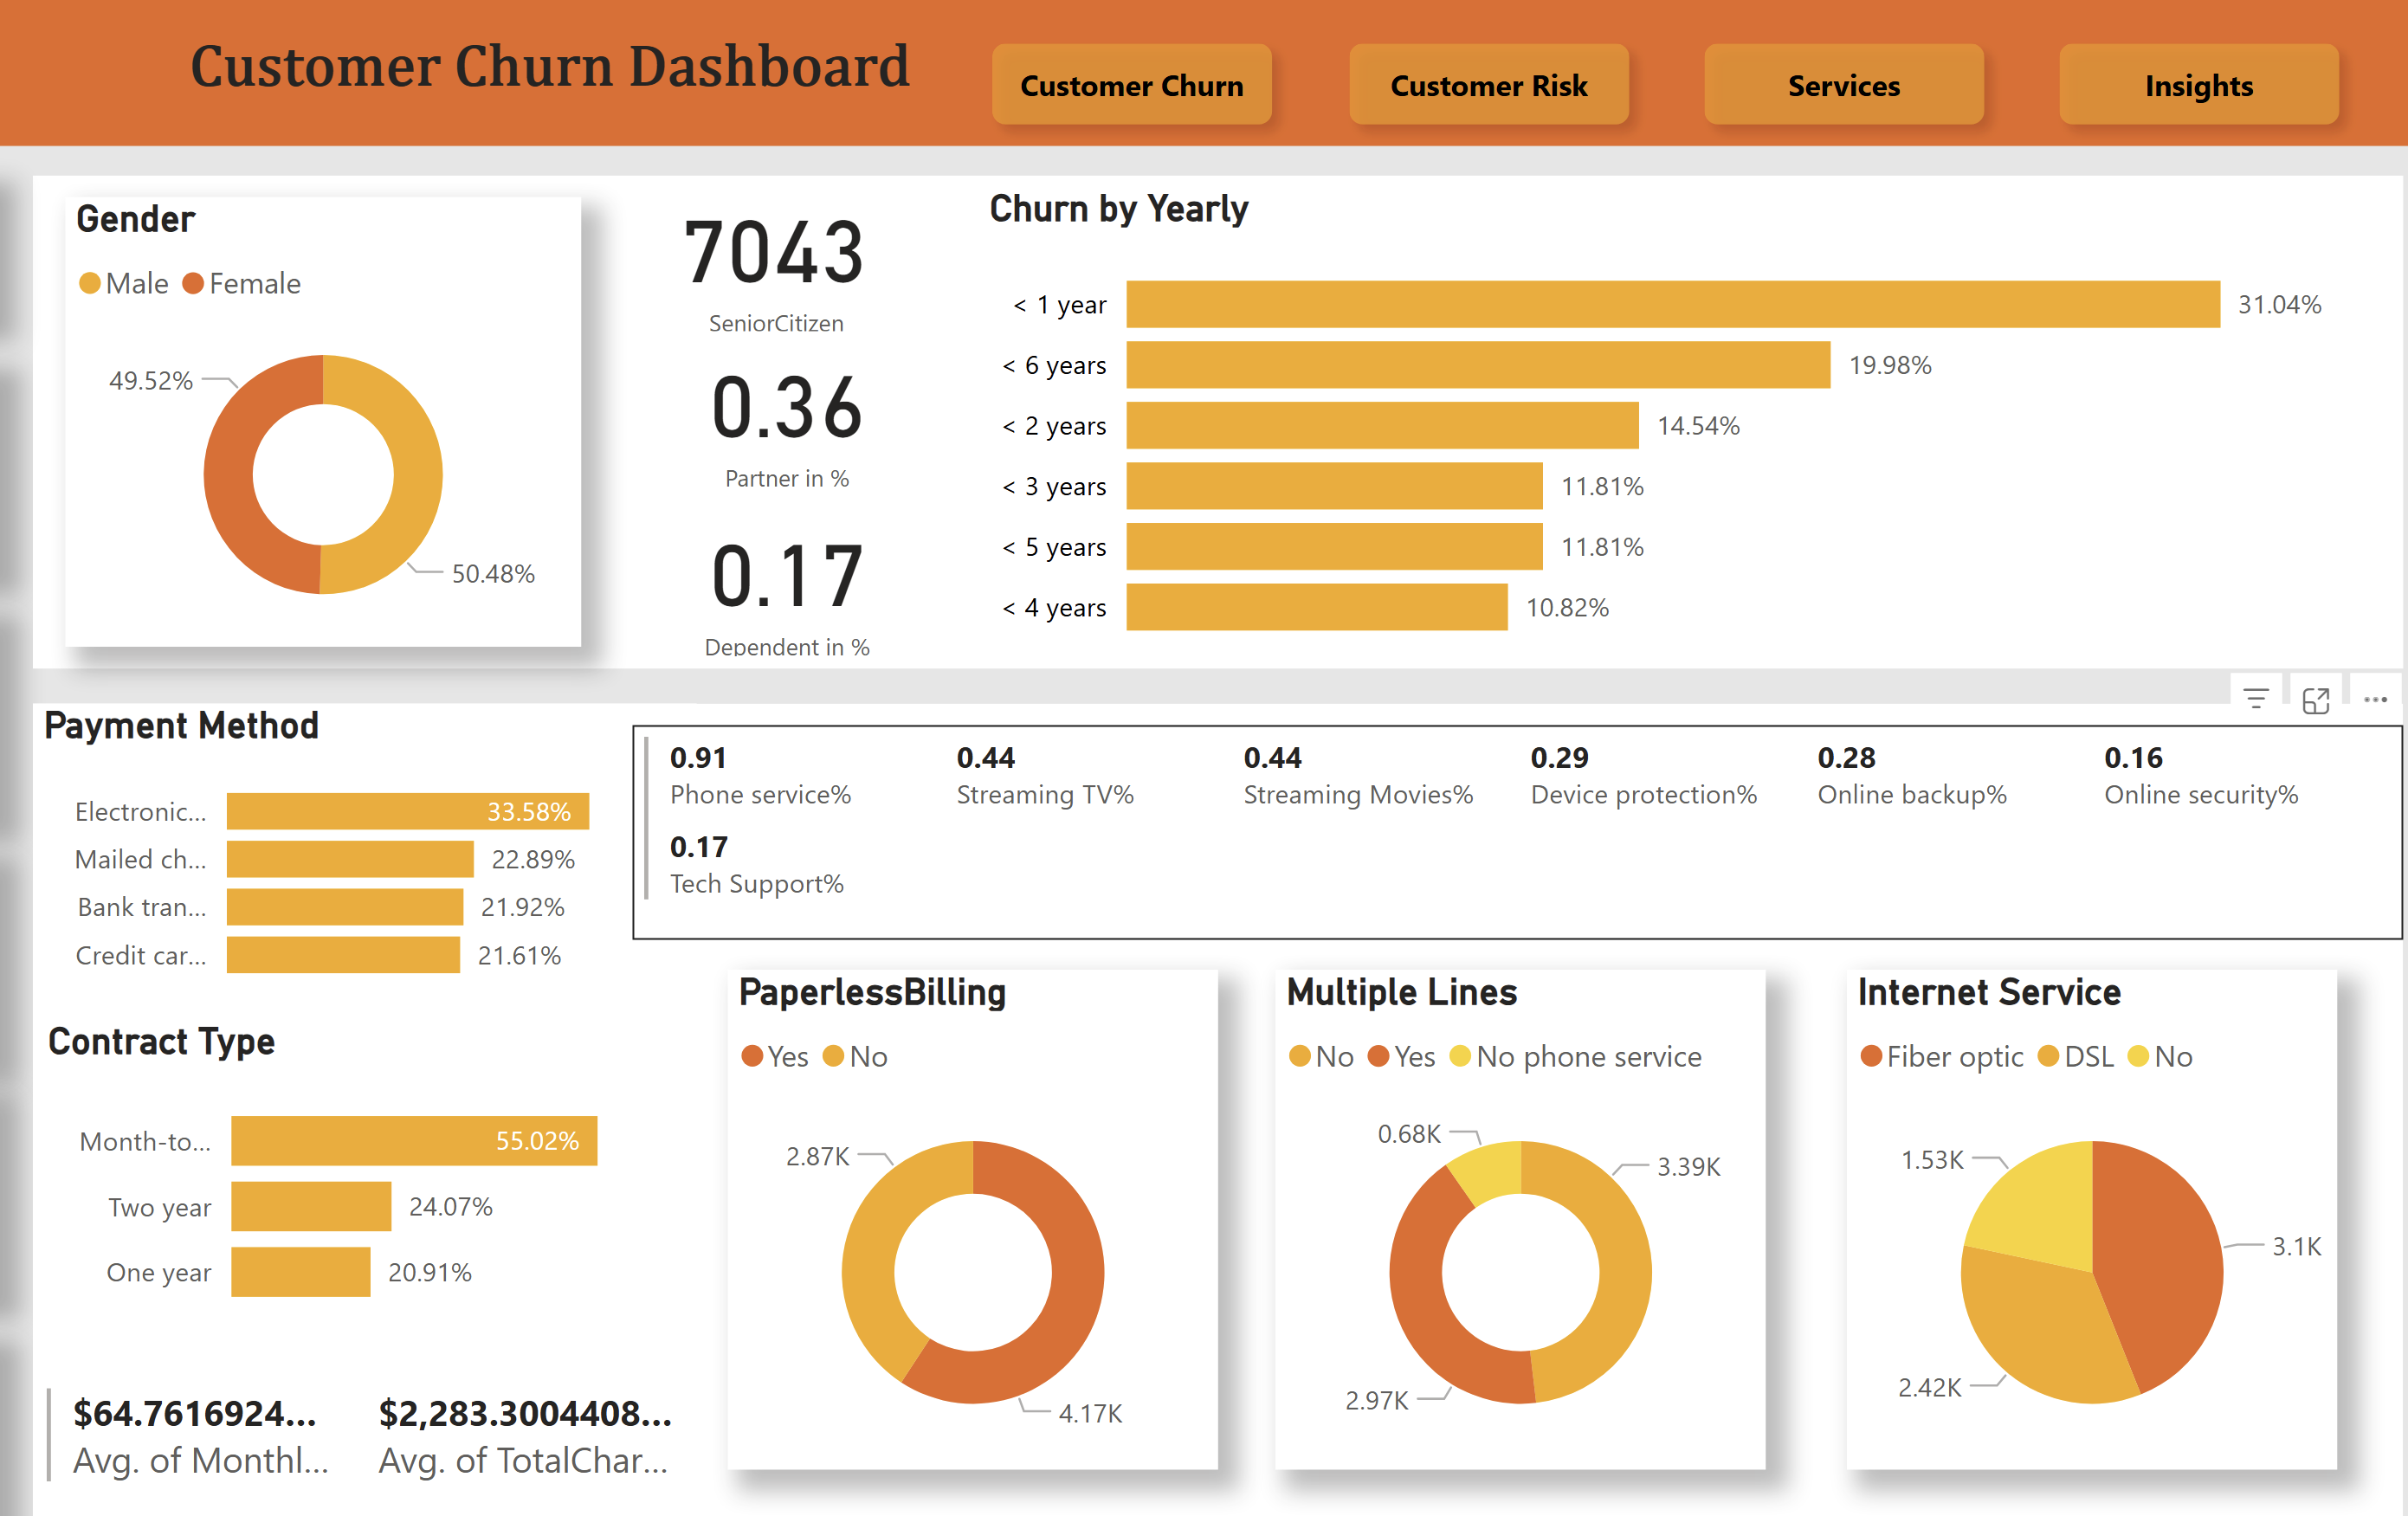

Layout of this report page (visuals, bound fields, positions):
{"tool":"powerbi","page":{"name":"Customer churn dashboard","canvas":[1280,720],"ordinal":1},"visuals":[{"type":"shape","box":[0,0,1280,74.3],"z":0},{"type":"card","fields":{"Values":["01 Churn-Dataset.churn count"]},"box":[9.5,171,167,97.6],"z":1000},{"type":"card","fields":{"Values":["Sum(01 Churn-Dataset.TotalCharges)"]},"box":[9.5,283,167,97.6],"z":2000},{"type":"card","fields":{"Values":["Sum(01 Churn-Dataset.MonthlyCharges)"]},"box":[9.5,393,166.6,97.6],"z":3000},{"type":"card","fields":{"Values":["Sum(01 Churn-Dataset.numAdminTickets)"]},"box":[9.5,501,166.6,97.6],"z":4000},{"type":"card","fields":{"Values":["Sum(01 Churn-Dataset.numTechTickets)"]},"box":[9.5,612.9,166.6,97.6],"z":5000},{"type":"shape","box":[192.9,87.1,1077.1,224.3],"z":6000},{"type":"donutChart","title":"Gender","fields":{"Category":["01 Churn-Dataset.gender"],"Y":["CountNonNull(01 Churn-Dataset.gender)"]},"box":[207.1,97.1,234.3,204.3],"z":7000},{"type":"card","fields":{"Values":["CountNonNull(01 Churn-Dataset.SeniorCitizen)"]},"box":[477.1,87.1,104.3,75.7],"z":8000},{"type":"barChart","title":" Churn by Yearly","fields":{"Category":["01 Churn-Dataset.loyalty"],"Y":["CountNonNull(01 Churn-Dataset.Churn)"]},"box":[622.9,92.9,617.1,218.6],"z":9000},{"type":"card","fields":{"Values":["01 Churn-Dataset.Partner in %"]},"box":[477.1,157.1,117.1,77.1],"z":10000},{"type":"card","fields":{"Values":["01 Churn-Dataset.Dependent in %"]},"box":[477.1,234.3,117.1,77.1],"z":11000},{"type":"shape","box":[192.9,327.1,1077.1,382.9],"z":12000},{"type":"barChart","title":" Payment Method","fields":{"Category":["01 Churn-Dataset.PaymentMethod"],"Y":["CountNonNull(01 Churn-Dataset.PaymentMethod)"]},"box":[192.9,327.1,301.4,137.1],"z":13000},{"type":"barChart","title":" Contract Type","fields":{"Category":["01 Churn-Dataset.Contract"],"Y":["CountNonNull(01 Churn-Dataset.Contract)"]},"box":[194.3,471.4,300,144.3],"z":14000},{"type":"multiRowCard","fields":{"Values":["Avg(01 Churn-Dataset.MonthlyCharges)","Avg(01 Churn-Dataset.TotalCharges)"]},"box":[194,633.1,299.9,65.5],"z":15000},{"type":"multiRowCard","fields":{"Values":["01 Churn-Dataset.Phone service in %","01 Churn-Dataset.Streaming TV in %","01 Churn-Dataset.Streaming Movies in %","01 Churn-Dataset.Device protection in %","01 Churn-Dataset.Online backup in %","01 Churn-Dataset.Online security in %","01 Churn-Dataset.Tech Support in %"]},"box":[465.7,337.1,804.3,97.1],"z":16000},{"type":"donutChart","title":" PaperlessBilling","fields":{"Category":["01 Churn-Dataset.PaperlessBilling"],"Y":["CountNonNull(01 Churn-Dataset.PaperlessBilling)"]},"box":[508.6,448.6,222.9,227.1],"z":17000},{"type":"donutChart","title":" Multiple Lines","fields":{"Category":["01 Churn-Dataset.MultipleLines"],"Y":["CountNonNull(01 Churn-Dataset.MultipleLines)"]},"box":[757.1,448.6,222.9,227.1],"z":18000},{"type":"pieChart","title":" Internet Service","fields":{"Category":["01 Churn-Dataset.InternetService"],"Y":["CountNonNull(01 Churn-Dataset.InternetService)"]},"box":[1017.1,448.6,222.9,227.1],"z":19000},{"type":"slicer","fields":{"Values":["01 Churn-Dataset.Churn"]},"box":[8.3,86.9,166.6,67],"z":20000},{"type":"actionButton","box":[620,19,145.2,54.7],"z":21000},{"type":"actionButton","box":[781.5,19,145.2,54.7],"z":22000},{"type":"actionButton","box":[942.9,19,145.2,54.7],"z":23000},{"type":"actionButton","box":[1104.4,19,145.2,54.7],"z":24000},{"type":"textbox","box":[258.3,18.3,366.7,46.7],"z":25000},{"type":"actionButton","box":[13.3,10,51.7,48.3],"z":27000},{"type":"image","box":[66.7,0,81.1,73.3],"z":27001}]}

Visuals, with their boxes on the page's 1280x720 design canvas (x1, y1, x2, y2). These are canvas units, not pixel positions in the 2408x1516 screenshot, which may show the page scaled, cropped or inside an application window:
shape: 0,0,1280,74
card - 01 Churn-Dataset.churn count: 10,171,176,269
card - Sum(01 Churn-Dataset.TotalCharges): 10,283,176,381
card - Sum(01 Churn-Dataset.MonthlyCharges): 10,393,176,491
card - Sum(01 Churn-Dataset.numAdminTickets): 10,501,176,599
card - Sum(01 Churn-Dataset.numTechTickets): 10,613,176,710
shape: 193,87,1270,311
"Gender" donutChart: 207,97,441,301
card - CountNonNull(01 Churn-Dataset.SeniorCitizen): 477,87,581,163
" Churn by Yearly" barChart: 623,93,1240,312
card - 01 Churn-Dataset.Partner in %: 477,157,594,234
card - 01 Churn-Dataset.Dependent in %: 477,234,594,311
shape: 193,327,1270,710
" Payment Method" barChart: 193,327,494,464
" Contract Type" barChart: 194,471,494,616
multiRowCard - Avg(01 Churn-Dataset.MonthlyCharges) x Avg(01 Churn-Dataset.TotalCharges): 194,633,494,699
multiRowCard - 01 Churn-Dataset.Phone service in % x 01 Churn-Dataset.Streaming TV in %: 466,337,1270,434
" PaperlessBilling" donutChart: 509,449,732,676
" Multiple Lines" donutChart: 757,449,980,676
" Internet Service" pieChart: 1017,449,1240,676
slicer - 01 Churn-Dataset.Churn: 8,87,175,154
actionButton: 620,19,765,74
actionButton: 782,19,927,74
actionButton: 943,19,1088,74
actionButton: 1104,19,1250,74
textbox: 258,18,625,65
actionButton: 13,10,65,58
image: 67,0,148,73
